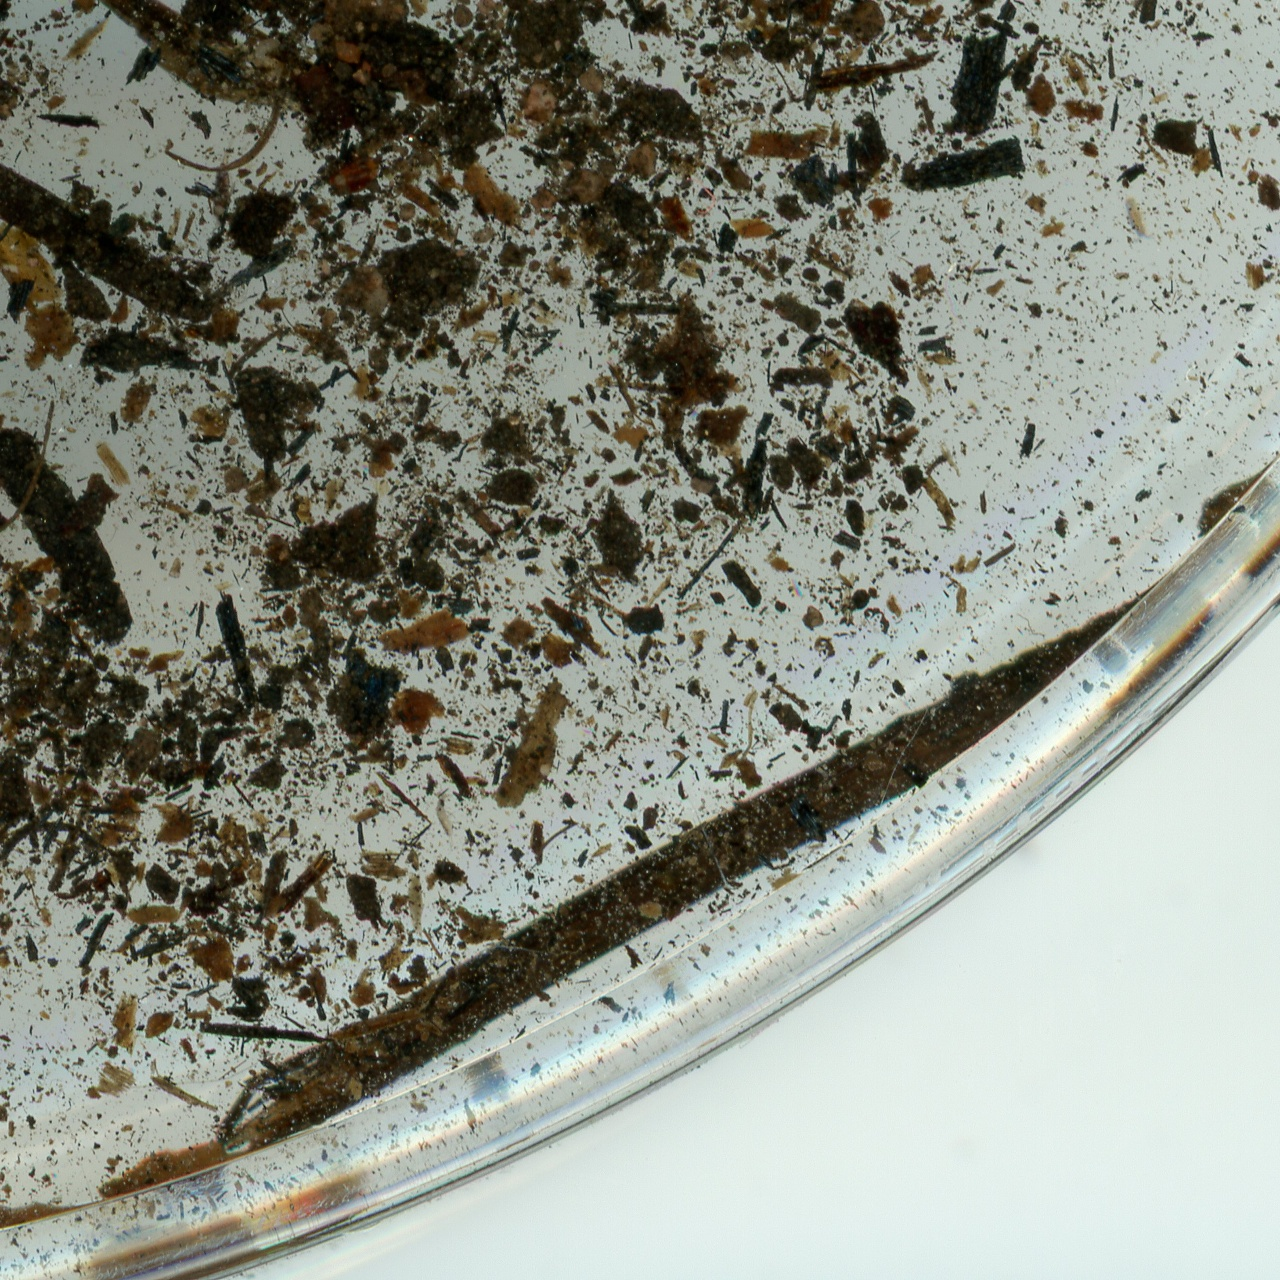arthropod: (432, 780, 460, 851), (1120, 193, 1156, 245), (406, 869, 426, 943)
